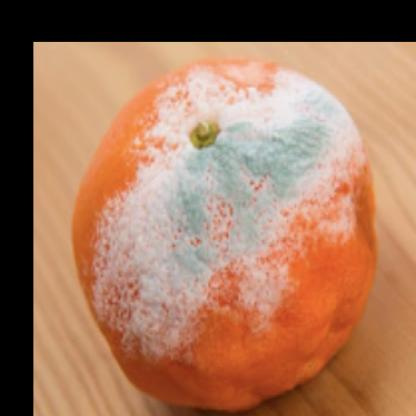rotten: (74, 60, 378, 416)
